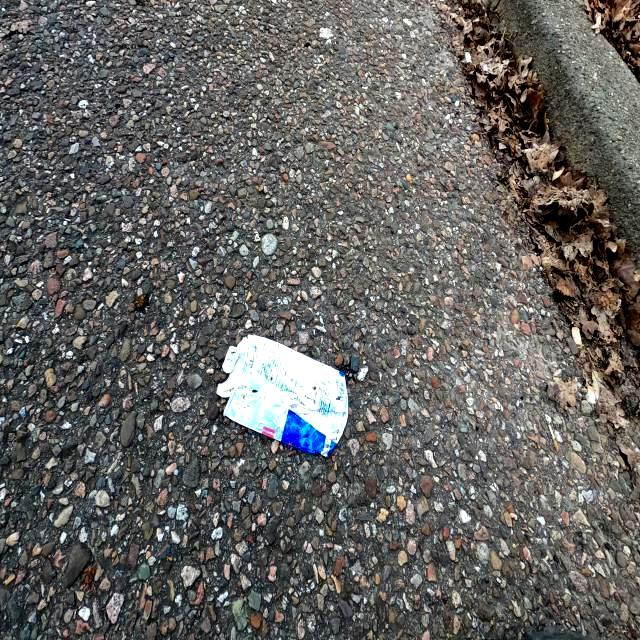Metal: (214, 330, 350, 458)
